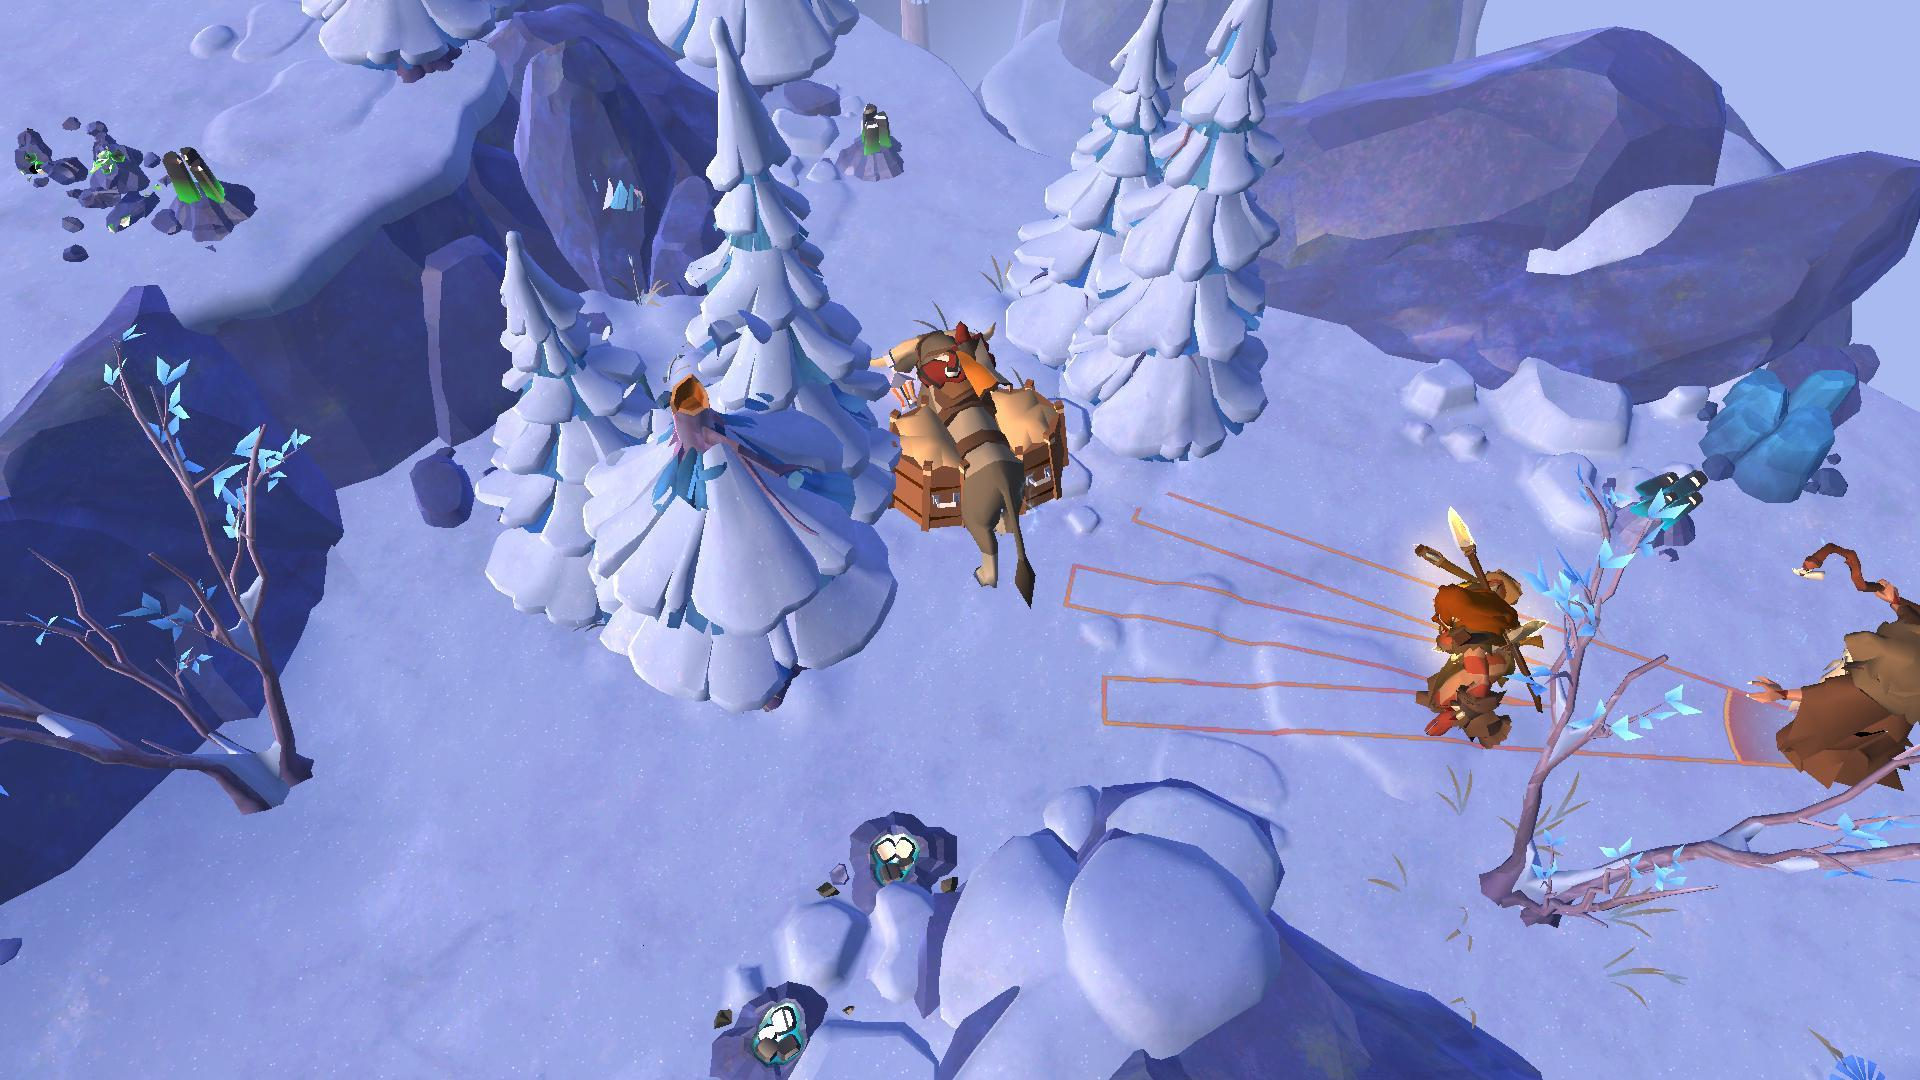enemy_factionKeeper: (1756, 551, 1920, 790), (1414, 529, 1540, 752)
ore_t3: (153, 141, 222, 210), (853, 95, 898, 156)
ore_t4: (1623, 469, 1705, 535)
rock_t4: (1697, 361, 1859, 508)
